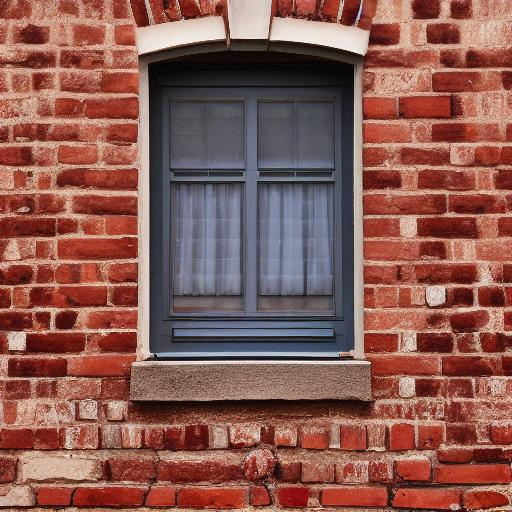Window: (130, 2, 374, 403)
